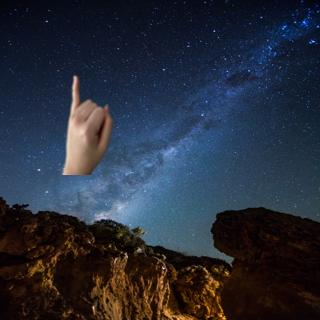Fine: (57, 74, 115, 182)
